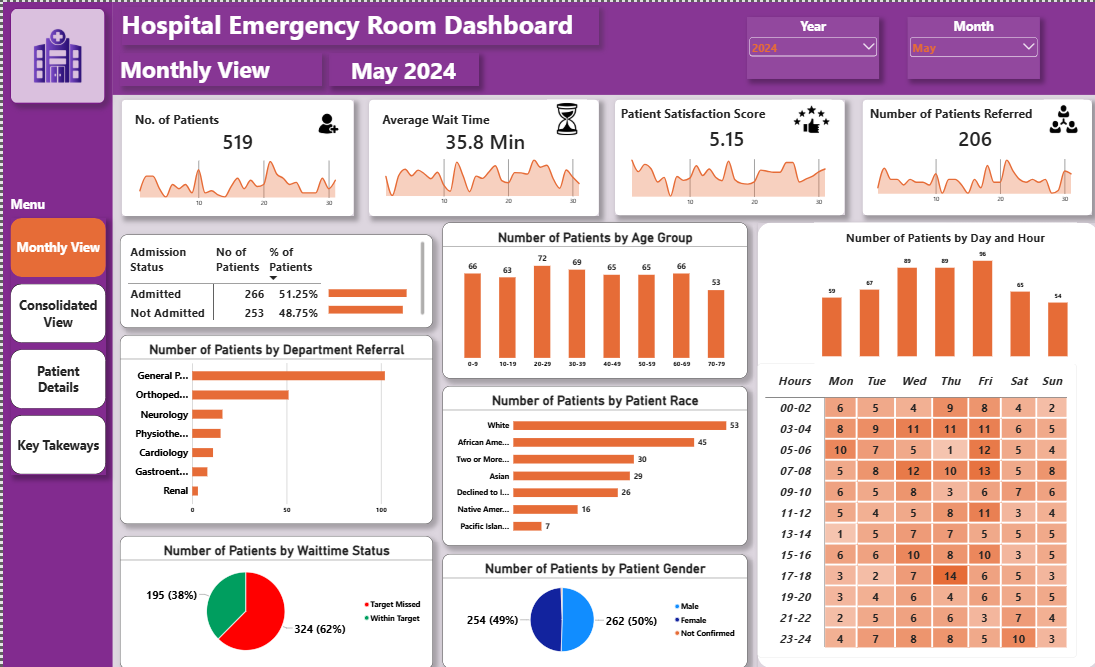

This screenshot's page, from the dashboard's own definition file:
{"tool":"powerbi","page":{"name":"Monthly View","canvas":[2300,1400],"ordinal":0},"visuals":[{"type":"shape","box":[230,0,2067.5,195],"z":0},{"type":"shape","box":[767.5,205,482.5,245],"z":1000},{"type":"shape","box":[0,0,230,1397.5],"z":2000},{"type":"shape","box":[247.5,205,487.5,245],"z":3000},{"type":"textbox","box":[247.5,10,1001.1,81.1],"z":4000},{"type":"textbox","box":[246.7,106.7,423.3,70],"z":5000},{"type":"pivotTable","fields":{"Rows":["Hospital ER_Data.Admission Status"],"Values":["Hospital ER_Data.Number of Patients","Divide(Hospital ER_Data.Number of Patients, ScopedEval(Hospital ER_Data.Number of Patients, []))"]},"box":[246.7,486.7,656.7,196],"z":5000,"group":"g2"},{"type":"image","box":[15,12.5,198.5,201.3],"z":6000},{"type":"shape","box":[1803.3,203.3,481.7,243.3],"z":7000},{"type":"barChart","fields":{"Category":["Hospital ER_Data.Admission Status"],"Y":["Hospital ER_Data.Number of Patients"]},"box":[670,563.4,216.7,126.7],"z":7000,"group":"g2"},{"type":"barChart","fields":{"Category":["Hospital ER_Data.Department Referral"],"Y":["Hospital ER_Data.Number of Patients"]},"box":[246.7,700,656.7,396.7],"z":8000},{"type":"barChart","fields":{"Category":["Hospital ER_Data.Patient Race"],"Y":["Hospital ER_Data.Number of Patients"]},"box":[922.5,807.5,640,335],"z":9000},{"type":"card","title":"Number of Patients Referred","fields":{"Values":["Hospital ER_Data.No. of Patients Referred"]},"box":[1805,202.5,472.5,125],"z":10000},{"type":"pieChart","fields":{"Category":["Hospital ER_Data.Patient Gender"],"Y":["Hospital ER_Data.Number of Patients"]},"box":[922.5,1160,640,240],"z":11000},{"type":"shape","box":[1283.3,203.3,481.7,243.3],"z":12000},{"type":"columnChart","fields":{"Category":["Hospital ER_Data.Age Group"],"Y":["Hospital ER_Data.Number of Patients"]},"box":[922.5,462.5,640,327.5],"z":13000},{"type":"shape","box":[1582.5,462.5,715,935],"z":13000,"group":"g1"},{"type":"pivotTable","fields":{"Columns":["Date Table.Day Name"],"Rows":["Hospital ER_Data.Waittime Interval"],"Values":["Hospital ER_Data.Number of Patients"]},"box":[1582.5,760,670,617.5],"z":14000,"group":"g1"},{"type":"pieChart","fields":{"Category":["Hospital ER_Data.Waittime Status"],"Y":["Hospital ER_Data.Number of Patients"]},"box":[246.7,1120,656.7,280],"z":14000},{"type":"card","title":"Average Wait Time","fields":{"Values":["Hospital ER_Data.Avg Wait Time"]},"box":[780,214.2,462.5,113.3],"z":15000},{"type":"columnChart","title":"Number of Patients by Day and Hour","fields":{"Category":["Date Table.Day Name"],"Y":["Hospital ER_Data.Number of Patients"]},"box":[1702.5,462.5,550,297.5],"z":15000,"group":"g1"},{"type":"slicer","title":"Year","fields":{"Values":["Date Table.Year"]},"box":[1562.5,32.5,277.5,130],"z":16000},{"type":"slicer","title":"Month","fields":{"Values":["Date Table.Month Name"]},"box":[1900,32.5,277.5,130],"z":17000},{"type":"card","title":"Patient Satisfaction Score","fields":{"Values":["Hospital ER_Data.Satisfaction Score"]},"box":[1282.5,202.5,475,125],"z":18000},{"type":"card","fields":{"Values":["Min(Date Table.Month & Year)"]},"box":[682.5,107.5,315,70],"z":19000},{"type":"areaChart","fields":{"Category":["Date Table.Date.Variation.Date Hierarchy.Day"],"Y":["Hospital ER_Data.No. of Patients Referred"]},"box":[1810,308.3,457.5,133.9],"z":20000},{"type":"group","id":"g1","title":"Group 6","box":[1582.5,462.5,715,935],"z":21000},{"type":"group","id":"g2","title":"Group 5","box":[246.7,486.7,656.7,203.3],"z":22000},{"type":"areaChart","fields":{"Category":["Date Table.Date.Variation.Date Hierarchy.Day"],"Y":["Hospital ER_Data.Number of Patients"]},"box":[260.1,311.3,462.2,138.7],"z":23000},{"type":"areaChart","fields":{"Category":["Date Table.Date.Variation.Date Hierarchy.Day"],"Y":["Avg(Hospital ER_Data.Patient Waittime)"]},"box":[779.2,309,457.5,138.7],"z":24000},{"type":"areaChart","fields":{"Category":["Date Table.Date.Variation.Date Hierarchy.Day"],"Y":["Hospital ER_Data.Satisfaction Score"]},"box":[1293.3,309.1,457.5,140.1],"z":25000},{"type":"card","title":"No. of Patients","fields":{"Values":["Hospital ER_Data.Total Patients"]},"box":[260,215,462.2,113.3],"z":26000},{"type":"image","box":[623.3,215,120,82.5],"z":27000},{"type":"image","box":[1123.3,205,120,82.5],"z":28000},{"type":"image","box":[1638.3,205,120,82.5],"z":29000},{"type":"image","box":[2166.7,205,120,82.5],"z":30000},{"type":"pageNavigator","box":[16.7,453.3,200,540],"z":30001},{"type":"textbox","box":[16.7,406.7,133.3,43.3],"z":30002}]}

Visuals, with their boxes in screenshot pixels (x1, y1, x2, y2), scaled from the page's 2300x1400 canvas onto the 1095x667 screenshot:
shape: detection(110, 0, 1094, 93)
shape: detection(365, 98, 595, 214)
shape: detection(0, 0, 110, 666)
shape: detection(118, 98, 350, 214)
textbox: detection(118, 5, 594, 43)
textbox: detection(117, 51, 319, 84)
pivotTable - Hospital ER_Data.Admission Status x Hospital ER_Data.Number of Patients: detection(117, 232, 430, 325)
image: detection(7, 6, 102, 102)
shape: detection(859, 97, 1088, 213)
barChart - Hospital ER_Data.Admission Status x Hospital ER_Data.Number of Patients: detection(319, 268, 422, 329)
barChart - Hospital ER_Data.Department Referral x Hospital ER_Data.Number of Patients: detection(117, 334, 430, 522)
barChart - Hospital ER_Data.Patient Race x Hospital ER_Data.Number of Patients: detection(439, 385, 744, 544)
"Number of Patients Referred" card: detection(859, 96, 1084, 156)
pieChart - Hospital ER_Data.Patient Gender x Hospital ER_Data.Number of Patients: detection(439, 553, 744, 666)
shape: detection(611, 97, 840, 213)
columnChart - Hospital ER_Data.Age Group x Hospital ER_Data.Number of Patients: detection(439, 220, 744, 376)
shape: detection(753, 220, 1094, 666)
pivotTable - Date Table.Day Name x Hospital ER_Data.Waittime Interval: detection(753, 362, 1072, 656)
pieChart - Hospital ER_Data.Waittime Status x Hospital ER_Data.Number of Patients: detection(117, 534, 430, 666)
"Average Wait Time" card: detection(371, 102, 592, 156)
"Number of Patients by Day and Hour" columnChart: detection(811, 220, 1072, 362)
"Year" slicer: detection(744, 15, 876, 77)
"Month" slicer: detection(905, 15, 1037, 77)
"Patient Satisfaction Score" card: detection(611, 96, 837, 156)
card - Min(Date Table.Month & Year): detection(325, 51, 475, 85)
areaChart - Date Table.Date.Variation.Date Hierarchy.Day x Hospital ER_Data.No. of Patients Referred: detection(862, 147, 1080, 211)
"Group 6" group: detection(753, 220, 1094, 666)
"Group 5" group: detection(117, 232, 430, 329)
areaChart - Date Table.Date.Variation.Date Hierarchy.Day x Hospital ER_Data.Number of Patients: detection(124, 148, 344, 214)
areaChart - Date Table.Date.Variation.Date Hierarchy.Day x Avg(Hospital ER_Data.Patient Waittime): detection(371, 147, 589, 213)
areaChart - Date Table.Date.Variation.Date Hierarchy.Day x Hospital ER_Data.Satisfaction Score: detection(616, 147, 834, 214)
"No. of Patients" card: detection(124, 102, 344, 156)
image: detection(297, 102, 354, 142)
image: detection(535, 98, 592, 137)
image: detection(780, 98, 837, 137)
image: detection(1032, 98, 1089, 137)
pageNavigator: detection(8, 216, 103, 473)
textbox: detection(8, 194, 71, 214)
